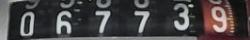digits: (17, 11, 41, 39), (128, 8, 152, 36), (172, 0, 192, 33), (53, 11, 76, 37), (92, 9, 112, 38), (208, 7, 227, 36)
